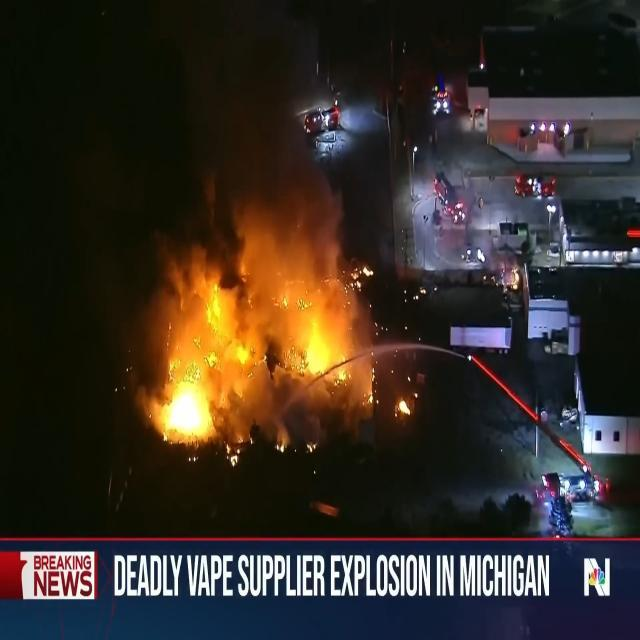fire: (95, 132, 425, 462)
